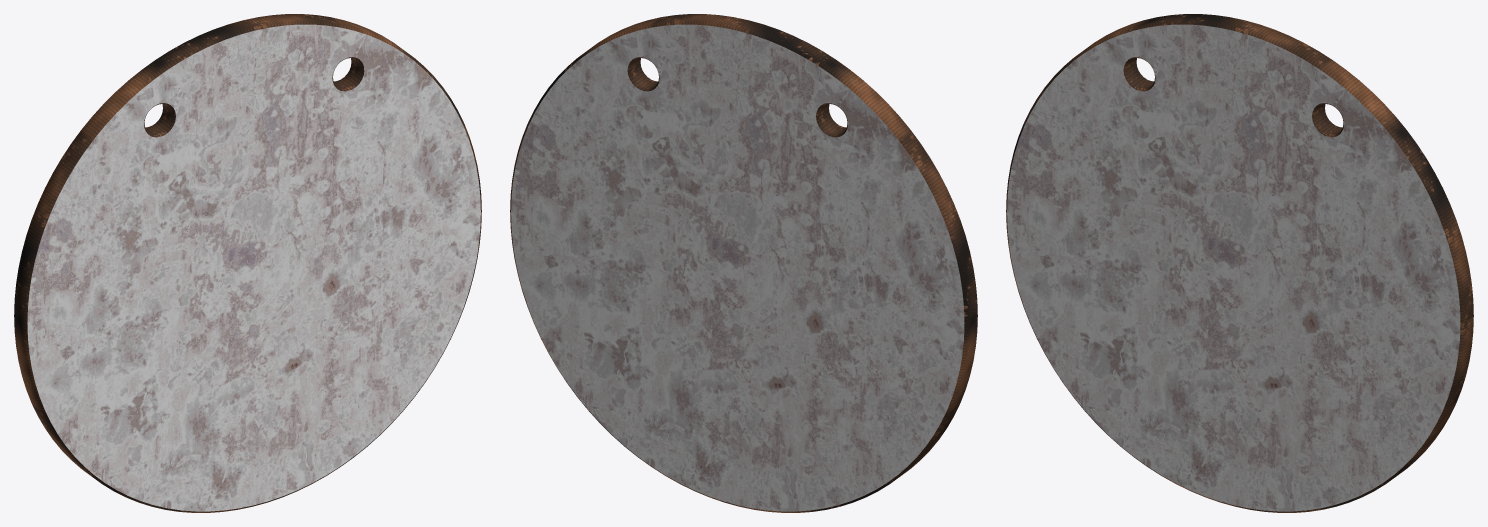
Rendered from plate_8.glb.
3 views of the same model, side by side, from view 1: azimuth 30°, elevation 25°; view 2: azimuth 150°, elevation 25°; view 3: azimuth 330°, elevation 25° (orthographic).
Parts seen in each view (by area): view 1: plate_8; view 2: plate_8; view 3: plate_8.
Boxes of the visible parts, x1,y1,x2,y2 form: plate_8: (14, 14, 481, 512); plate_8: (510, 14, 977, 512); plate_8: (1006, 14, 1473, 512).
Size of the model in its own units: 0.2032 by 0.2032 by 0.00953.
Materials: 3 (3 with a texture image).
